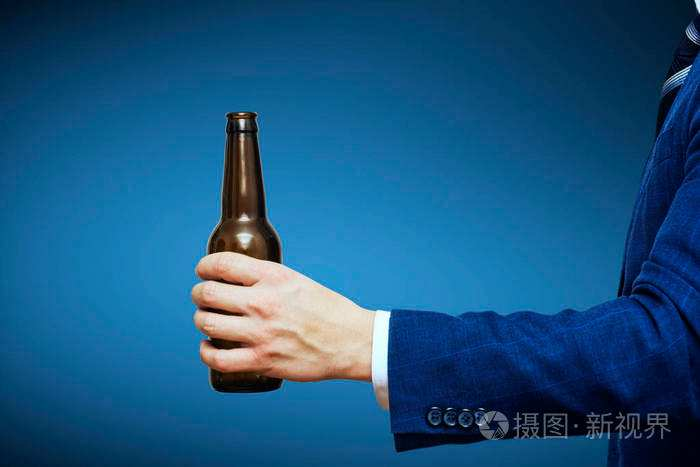no-phone: (185, 106, 366, 401)
